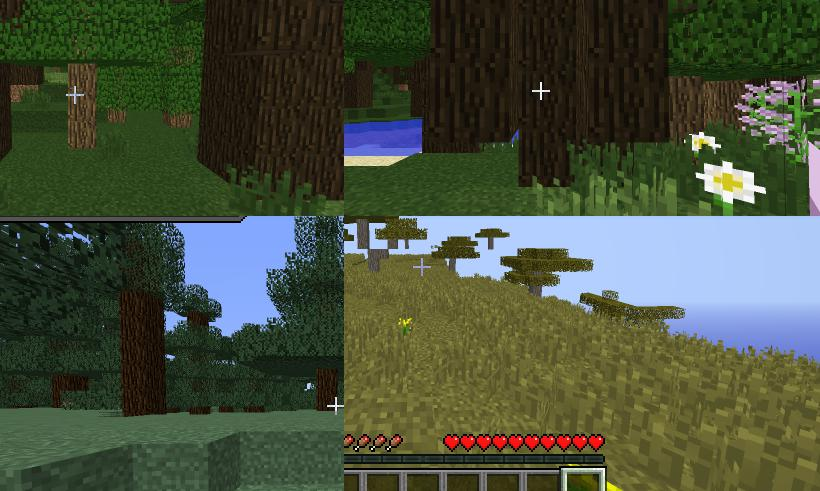minecraft-blocks: (583, 1, 753, 144), (235, 1, 344, 189), (431, 1, 516, 152), (522, 1, 577, 188), (123, 294, 166, 419), (671, 78, 712, 151), (70, 63, 99, 150), (715, 81, 754, 130), (345, 56, 378, 113), (356, 220, 389, 274), (322, 369, 341, 410), (108, 111, 127, 128), (450, 259, 457, 273), (489, 238, 495, 251)
